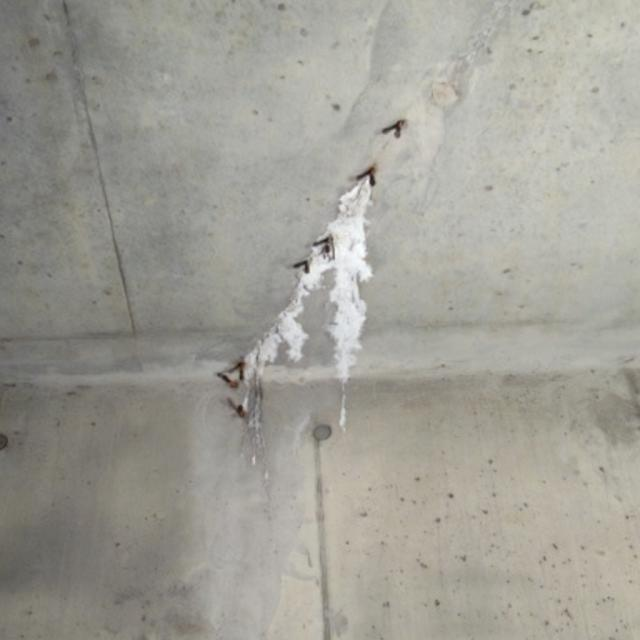D01: (234, 174, 373, 389)
